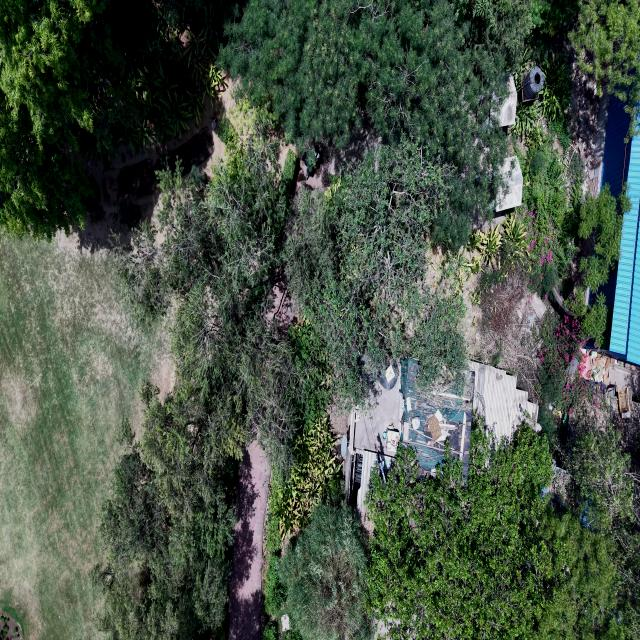DRY_AREA: (0, 84, 232, 639), (0, 238, 171, 639), (56, 81, 234, 259), (71, 79, 234, 250), (73, 78, 235, 250), (75, 83, 232, 250), (76, 109, 214, 249), (459, 274, 548, 401), (229, 441, 270, 639), (294, 126, 381, 197), (0, 611, 22, 639)
ROOFTOP_BUILDING: (345, 359, 537, 514), (345, 359, 473, 514), (581, 96, 639, 389), (598, 96, 639, 386), (602, 97, 639, 364), (401, 359, 474, 475), (344, 376, 403, 514), (610, 137, 639, 364), (470, 362, 538, 441), (601, 96, 631, 196), (496, 156, 524, 212), (496, 157, 522, 212), (492, 75, 517, 127), (500, 75, 518, 126)
VEGETATION_TREE: (0, 0, 639, 639), (118, 2, 637, 638), (104, 105, 395, 610), (99, 106, 339, 637), (103, 114, 343, 633), (100, 114, 298, 638), (449, 2, 637, 434), (221, 0, 539, 248), (123, 114, 296, 467), (358, 427, 636, 638), (363, 425, 637, 638), (368, 429, 636, 637), (0, 0, 235, 237), (368, 427, 630, 638), (286, 139, 465, 401), (513, 0, 637, 344), (481, 134, 629, 421), (368, 427, 551, 638), (96, 380, 242, 638), (95, 385, 235, 639), (460, 134, 629, 344), (0, 0, 233, 149), (466, 131, 626, 340), (538, 317, 639, 637), (264, 321, 342, 637), (515, 137, 629, 344), (93, 0, 235, 148), (557, 381, 639, 637), (222, 0, 362, 149), (536, 171, 630, 344), (268, 320, 341, 541), (269, 320, 341, 541), (0, 88, 93, 237), (532, 508, 635, 639), (279, 499, 373, 639), (264, 473, 343, 621), (516, 0, 581, 149), (567, 390, 635, 531), (571, 184, 630, 345), (512, 3, 576, 149), (570, 0, 639, 135), (521, 138, 581, 293), (272, 411, 340, 539), (470, 272, 536, 397), (446, 212, 532, 292), (512, 41, 570, 148), (578, 184, 630, 290), (119, 222, 169, 323), (537, 315, 588, 413), (288, 318, 333, 421), (609, 503, 639, 637), (513, 98, 571, 150), (264, 493, 286, 618), (570, 286, 611, 348), (533, 0, 581, 47), (539, 53, 570, 125), (578, 294, 610, 346), (502, 215, 527, 270), (469, 227, 502, 268), (512, 101, 541, 143), (280, 148, 298, 196), (0, 612, 24, 639), (217, 116, 236, 144), (263, 621, 278, 639)
